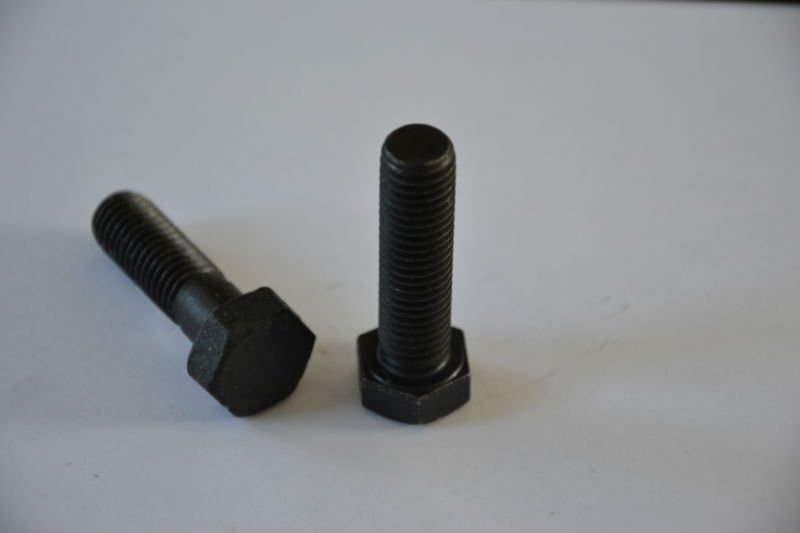screw: (90, 190, 316, 419), (357, 122, 471, 425)
